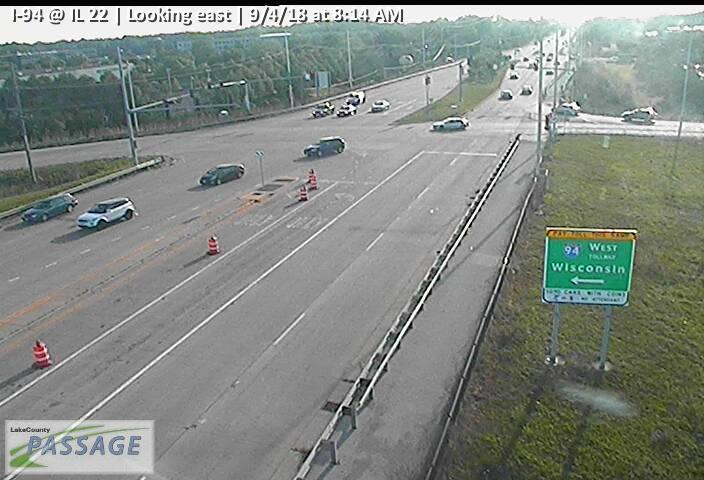SUV: (77, 197, 134, 231), (22, 193, 77, 224)
Sedan: (201, 163, 244, 187), (303, 136, 345, 158), (431, 116, 470, 132), (312, 103, 333, 117), (337, 105, 357, 118), (372, 100, 389, 112), (501, 89, 513, 99), (522, 85, 532, 93)
